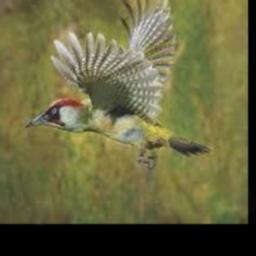Woodpecker: (24, 0, 213, 168)
